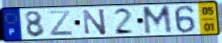2: (111, 8, 135, 36)
6: (173, 4, 197, 35)
8: (24, 10, 47, 38)
M: (141, 4, 175, 36)
N: (81, 8, 108, 37)
Z: (47, 10, 75, 37)
